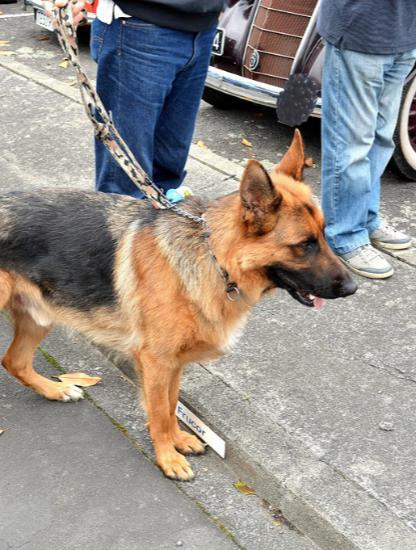Mulberry: (270, 72, 325, 127)
